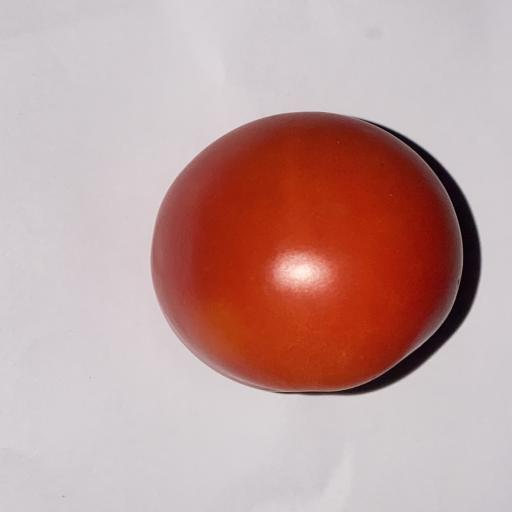ripe: (151, 113, 462, 392)
